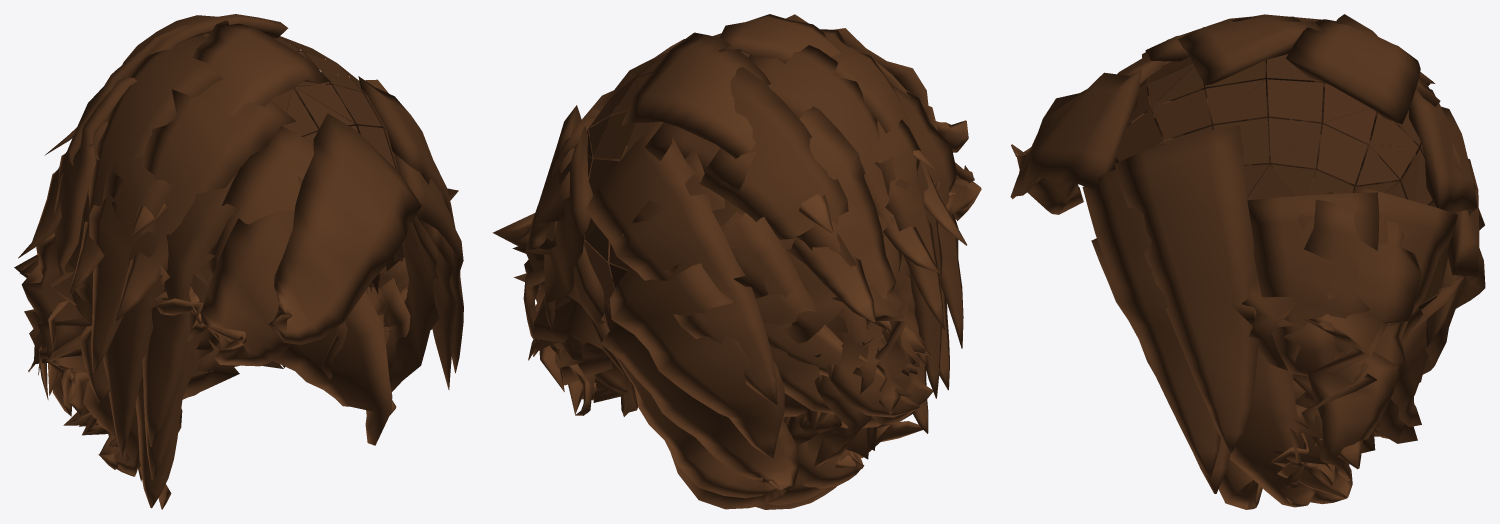
The model's file is kopf.haar.seitenbob.glb.
3 views of the same model, side by side, from view 1: azimuth 30°, elevation 25°; view 2: azimuth 150°, elevation 25°; view 3: azimuth 270°, elevation 25° (orthographic). The views are drawn at different scales.
Visible parts, largest first — view 1: haar; view 2: haar; view 3: haar.
Part boxes in pixels (x1,y1,x2,y2): haar: (14,14,463,509); haar: (492,14,981,509); haar: (1010,14,1485,509).
Bounding box in the file's own units: 0.234 × 0.2478 × 0.2337.
